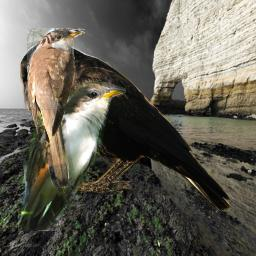Crow: (20, 42, 234, 212)
Cuckoo: (18, 82, 126, 231), (27, 28, 85, 188)
